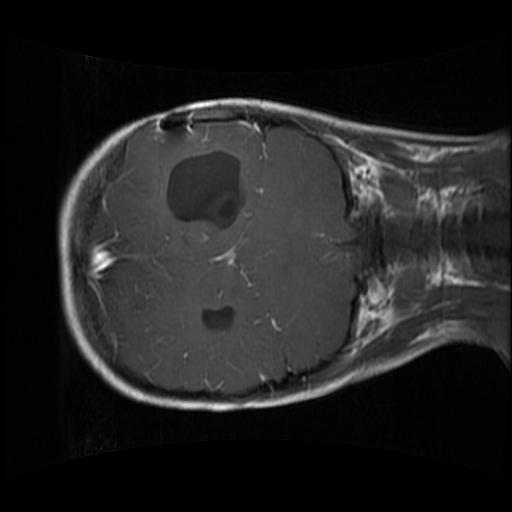glioma: (164, 145, 249, 232)
